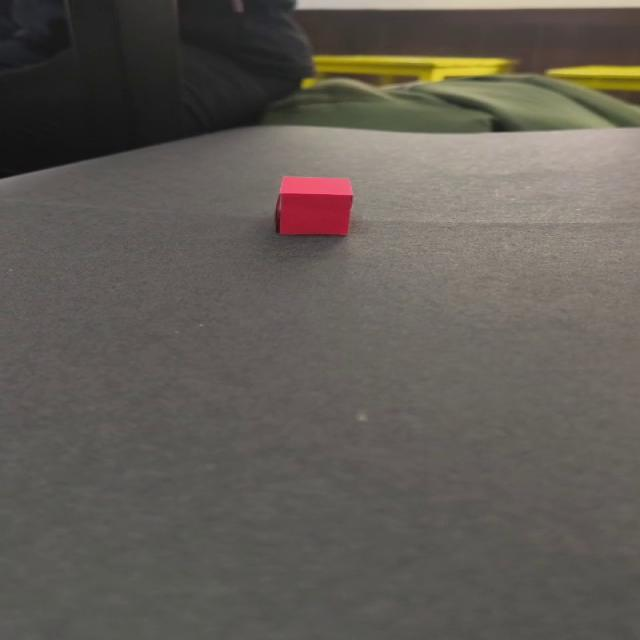red block: (274, 175, 354, 235)
